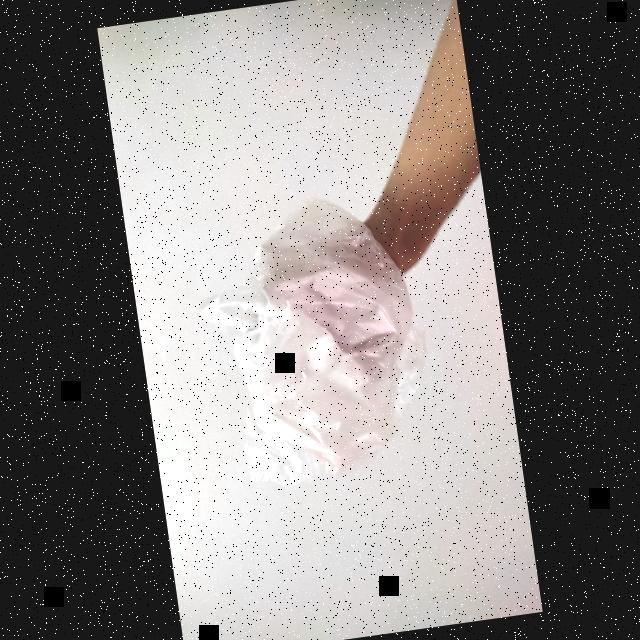plastic_bag: (184, 182, 448, 516)
